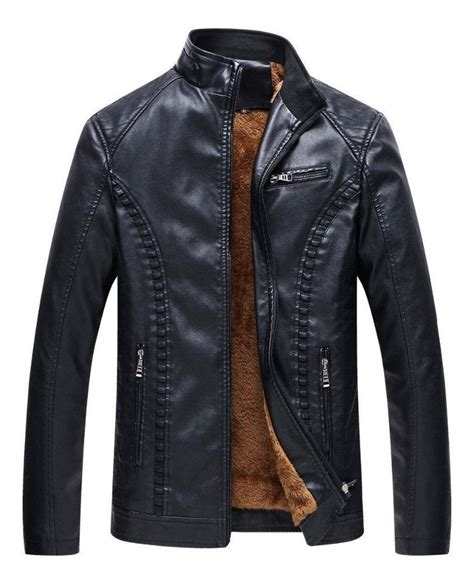cuero: (22, 27, 451, 555)
